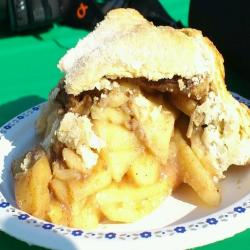apple_pie: (19, 16, 242, 216)
